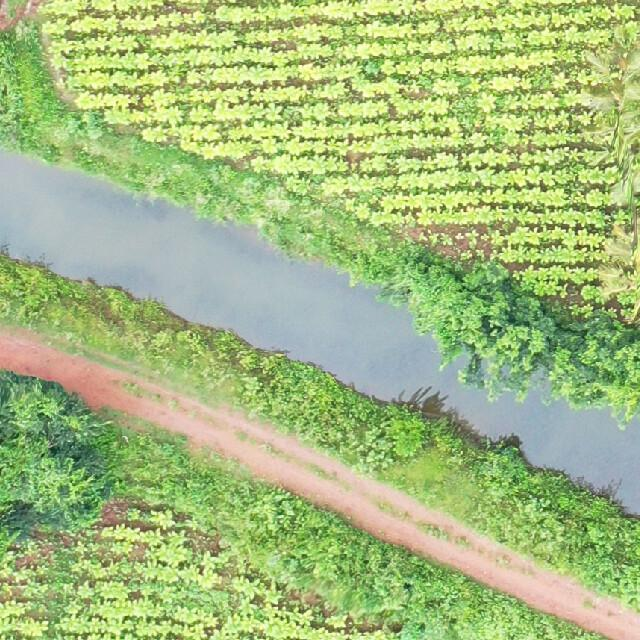tobacco: (0, 18, 640, 640), (33, 0, 640, 328), (0, 503, 397, 640)
